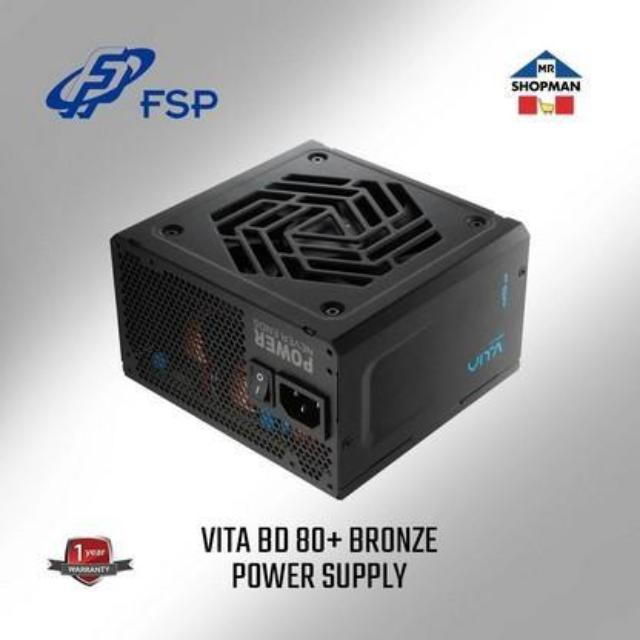PSU: (103, 128, 532, 512)
